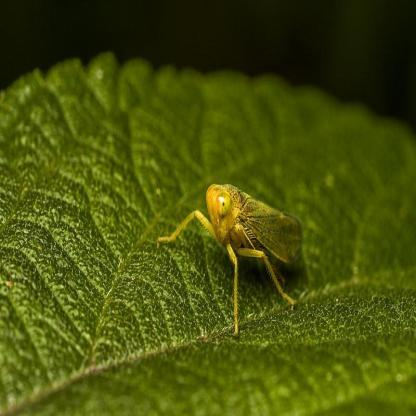green-leafhopper: (165, 178, 307, 326)
